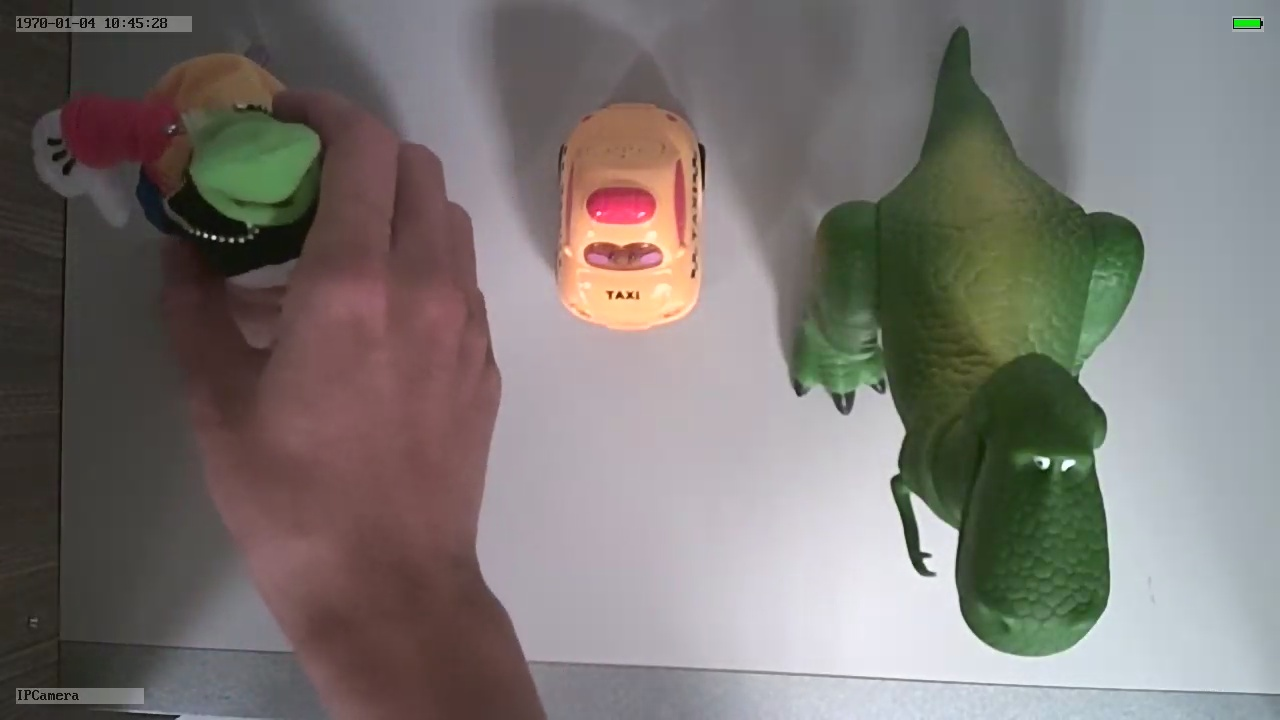car: (555, 95, 710, 335)
rex: (789, 98, 1145, 655)
